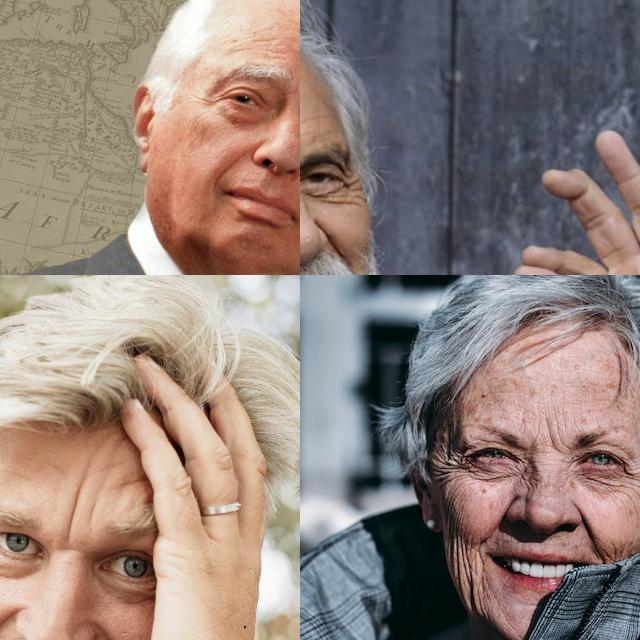bunny_line: (518, 468, 540, 494)
crows_feet: (335, 169, 363, 207), (442, 450, 472, 480), (622, 461, 640, 496), (200, 88, 226, 112)
forehead: (264, 44, 288, 62)
frown_line: (532, 415, 566, 453), (63, 481, 79, 547), (85, 499, 98, 523)
gummy_smile: (576, 508, 600, 554), (215, 144, 243, 183), (314, 220, 344, 256), (496, 496, 514, 538), (99, 625, 141, 640), (0, 607, 13, 640)
masseter: (446, 534, 476, 600)
sad_smile: (476, 532, 490, 568)
